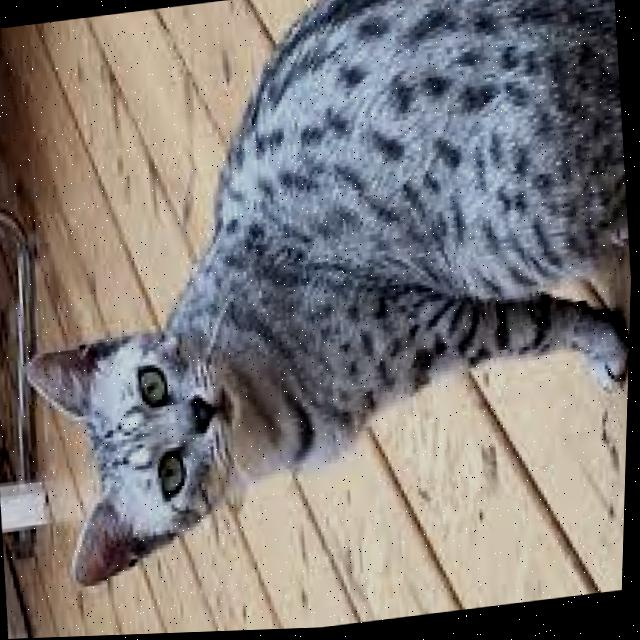Egyptian Mau: (0, 0, 640, 600)
